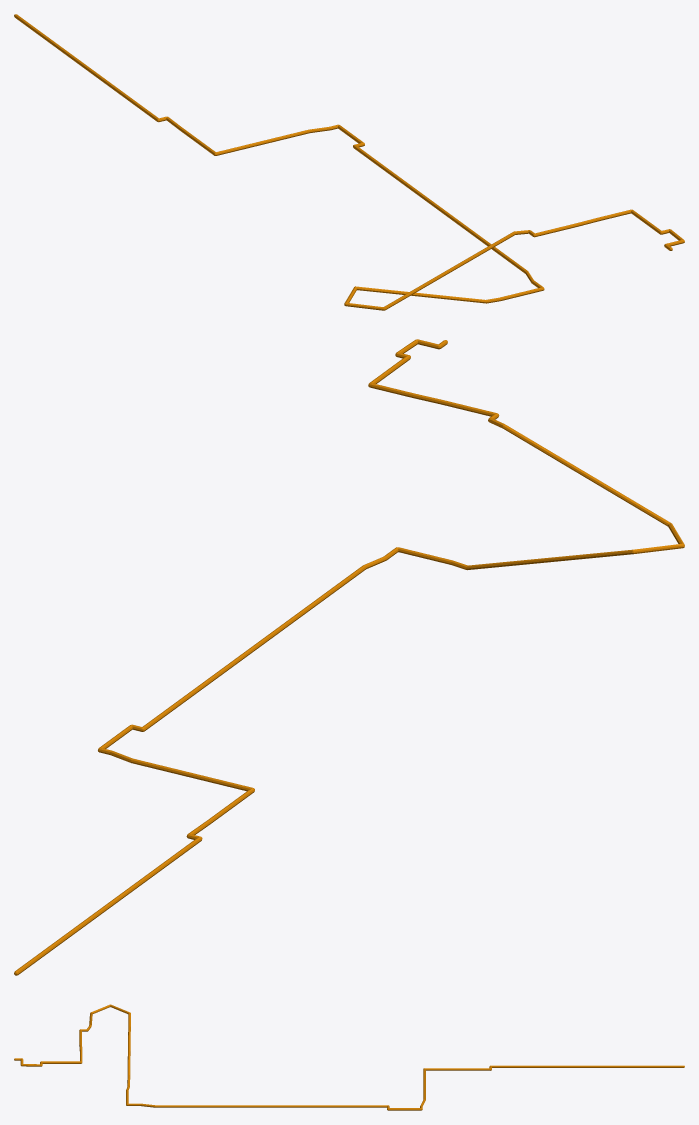
The picture shows the model from 3 angles, top to bottom: view 1: azimuth 30°, elevation 25°; view 2: azimuth 150°, elevation 25°; view 3: azimuth 270°, elevation 25°; orthographic projection. The views are drawn at different scales.
Bounding box in the file's own units: 1619 × 520 × 5042.
